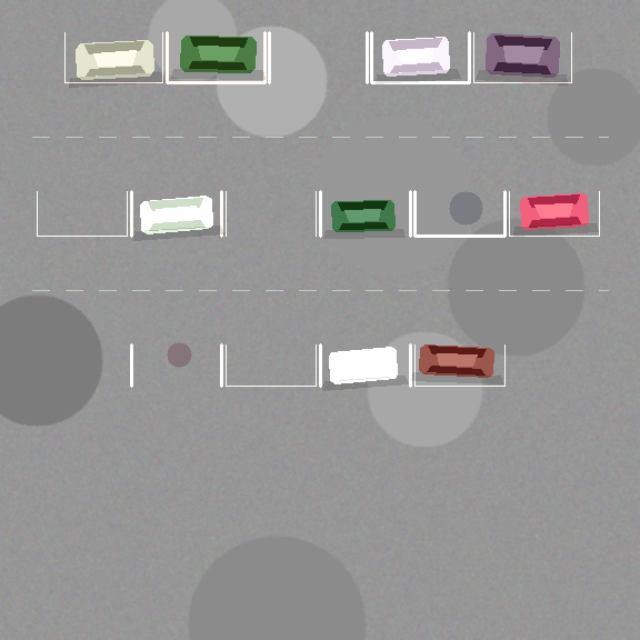space-empty: (269, 32, 367, 82), (37, 191, 127, 236), (226, 191, 316, 236), (414, 191, 504, 236), (131, 344, 221, 386), (226, 344, 316, 386)
space-occupied: (64, 32, 162, 82), (371, 32, 469, 82), (473, 32, 571, 82), (167, 32, 264, 82), (131, 191, 221, 236), (320, 191, 410, 236), (509, 191, 599, 236), (320, 344, 410, 386), (414, 344, 504, 386)
